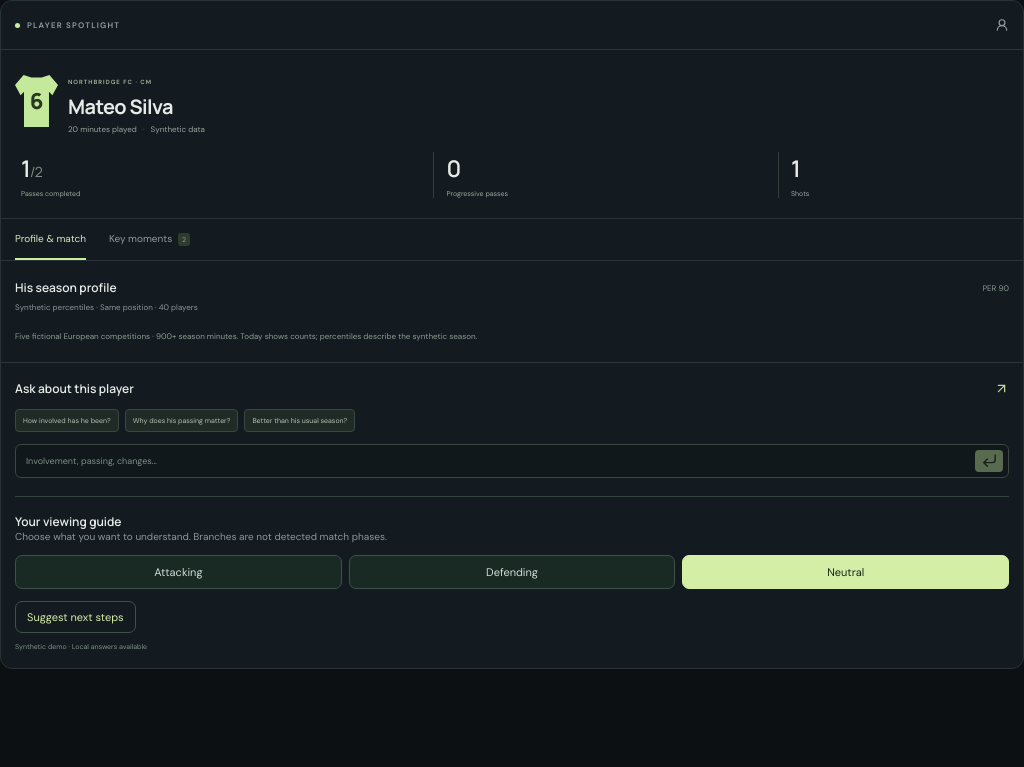
Scenario: labels model-selected answers accurately
Click the button "How involved has he been?".
click(67, 420)  # box [15,409,119,432]
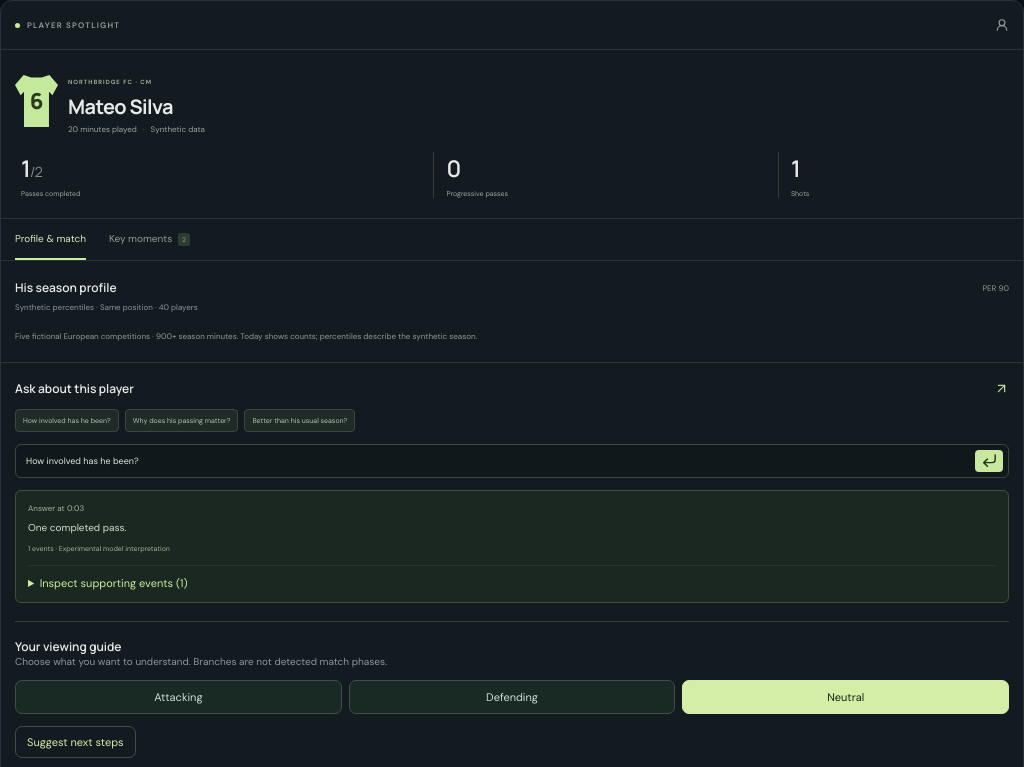
Result: the text "1 events · Experimental model interpretation" is shown at [28,544,170,553]
